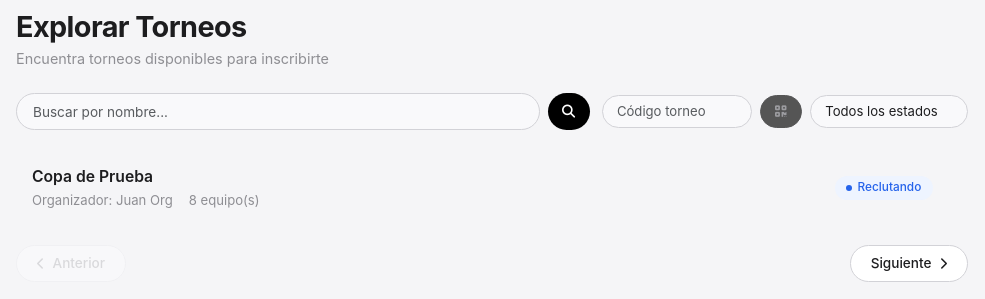
BrowseTournaments › pasa a la siguiente pagina
Expected: the text "Copa de Prueba" is shown, [32,166,153,186]
Expected: the button "Anterior" is disabled, [16,245,126,282]
Click the button "Siguiente".
click(909, 264)  # box [850,245,968,282]
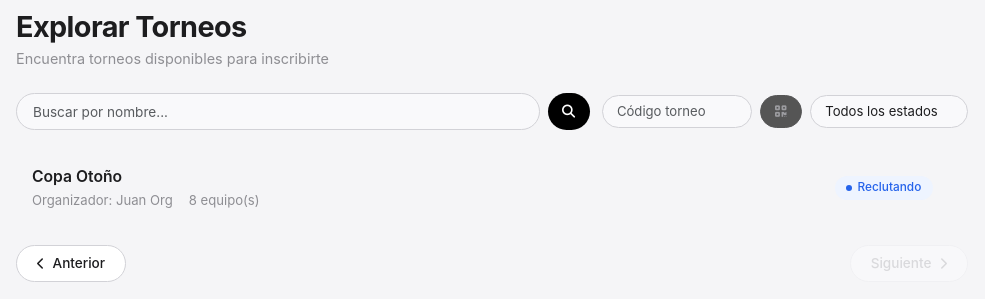
Expected: the element with class "bt-pager" is shown, [16,225,968,282]
Expected: the text "Copa Otoño" is shown, [32,166,122,186]
